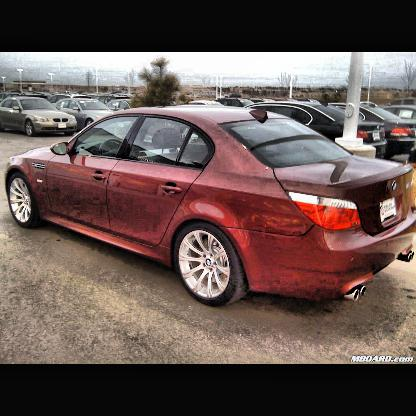BMW M5 Sedan 2010: (7, 104, 416, 307)
